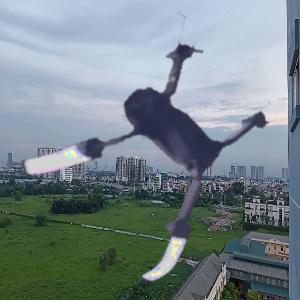drone: (12, 7, 292, 287)
